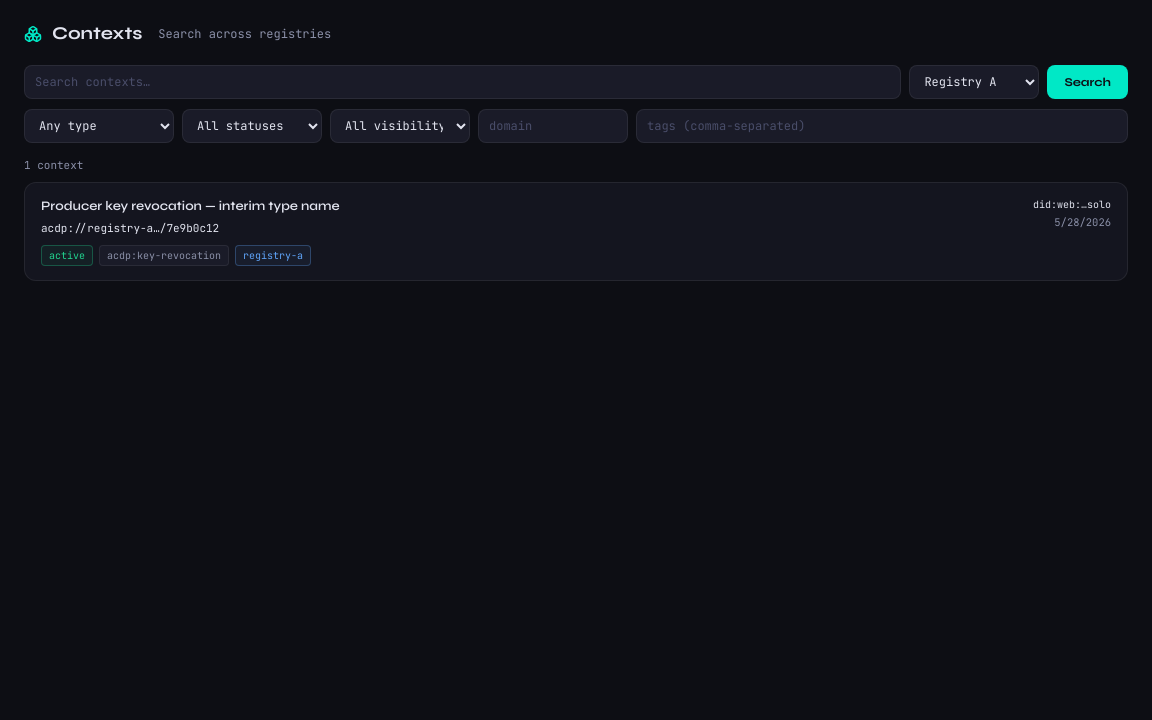
Test: /contexts — a search hit whose body cannot be fetched › renders an unavailable state instead of crashing the modal
Step 1. Click the text "Producer key revocation — interim type name" → (190, 206), box x1=41 y1=198 x2=340 y2=214
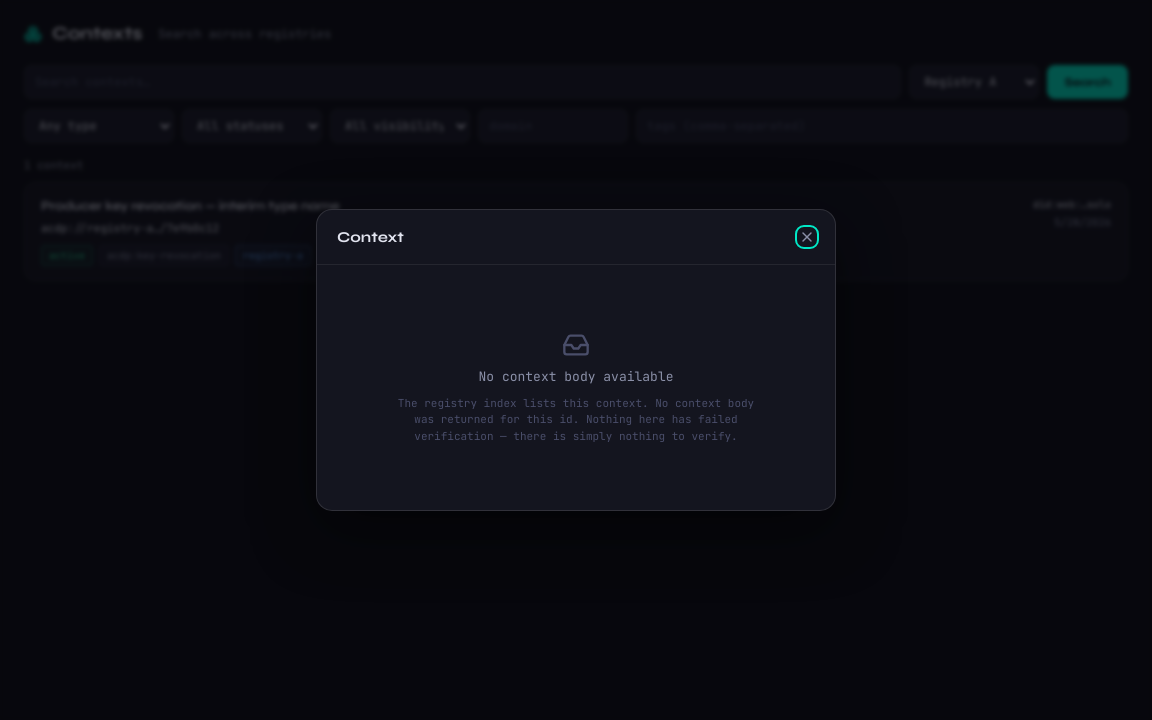
expect the text "No context body available" is shown: met, box x1=478 y1=367 x2=674 y2=387
